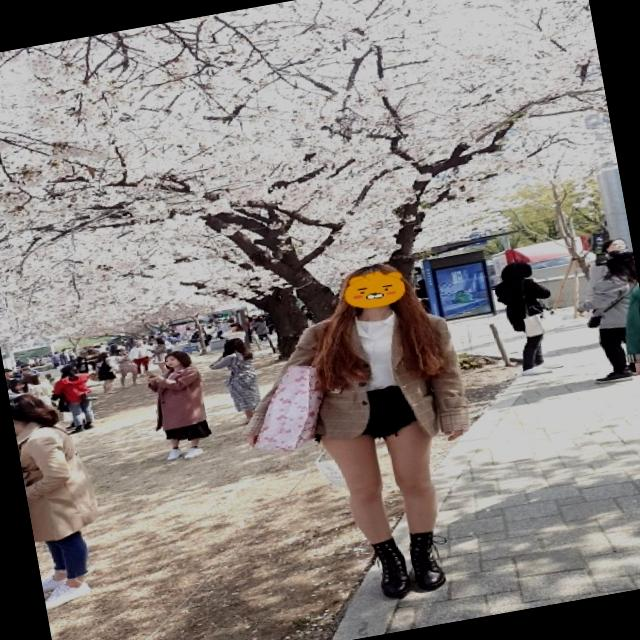blazer: (226, 298, 464, 456)
shortpants: (300, 376, 446, 452)
